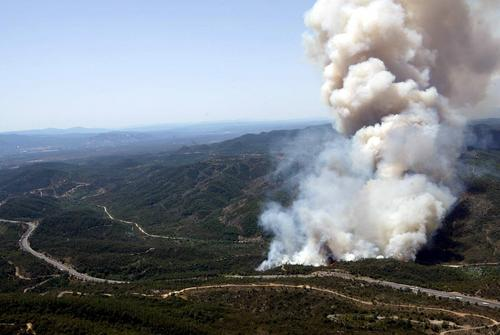yanwu: (257, 0, 500, 272)
